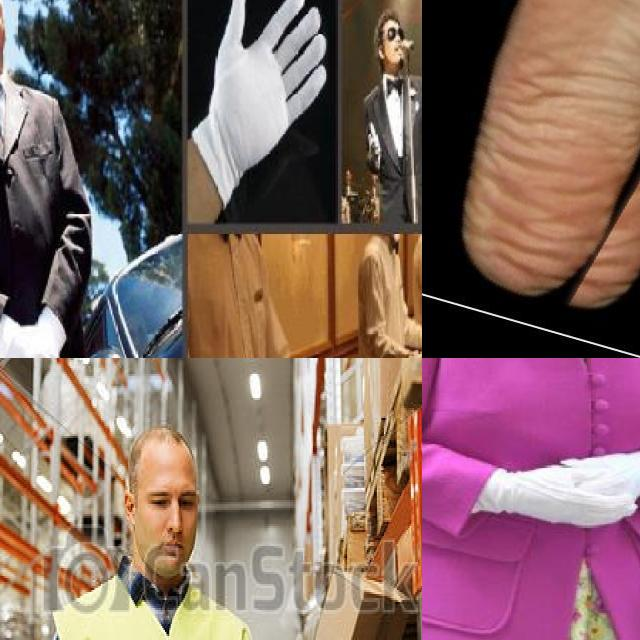Barefoots: (422, 0, 640, 349)
No_Ear-Protection: (124, 487, 135, 532)
No_Glasses: (125, 450, 198, 517)
face_nomask: (134, 513, 197, 577), (376, 21, 403, 68)
hand_glove: (203, 0, 327, 183), (515, 461, 636, 525), (560, 454, 640, 502), (0, 316, 61, 358), (366, 119, 385, 164)
head_nohelmet: (129, 430, 195, 493), (374, 6, 403, 26)
person: (422, 358, 640, 640), (0, 0, 104, 358), (366, 0, 422, 217)
